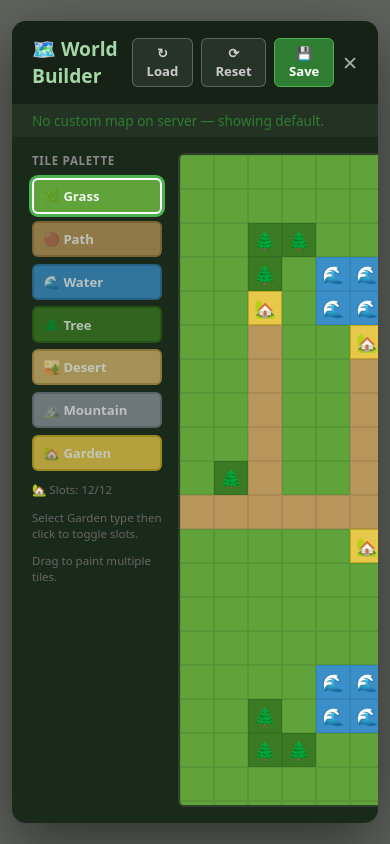
Test: WorldBuilder — save › shows error message when save fails
Note: Wait until the initial load is done and button is enabled
Click the button with aria-label "Save map".
click(304, 62)  # box [274, 38, 334, 87]
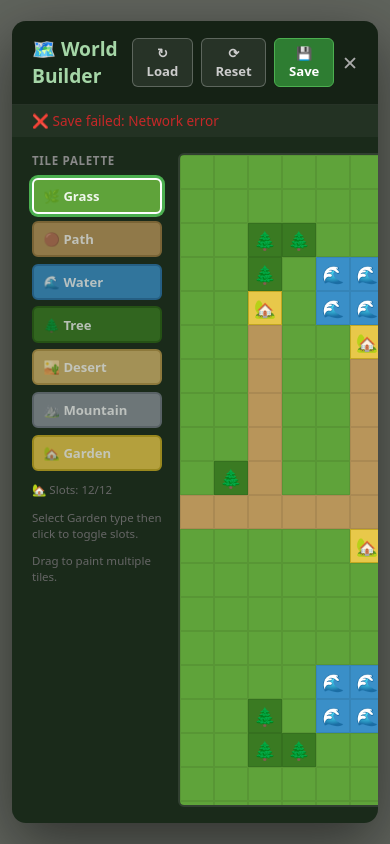
Check: the text "❌ Save failed: Network error" is shown, box [12, 105, 378, 137]
